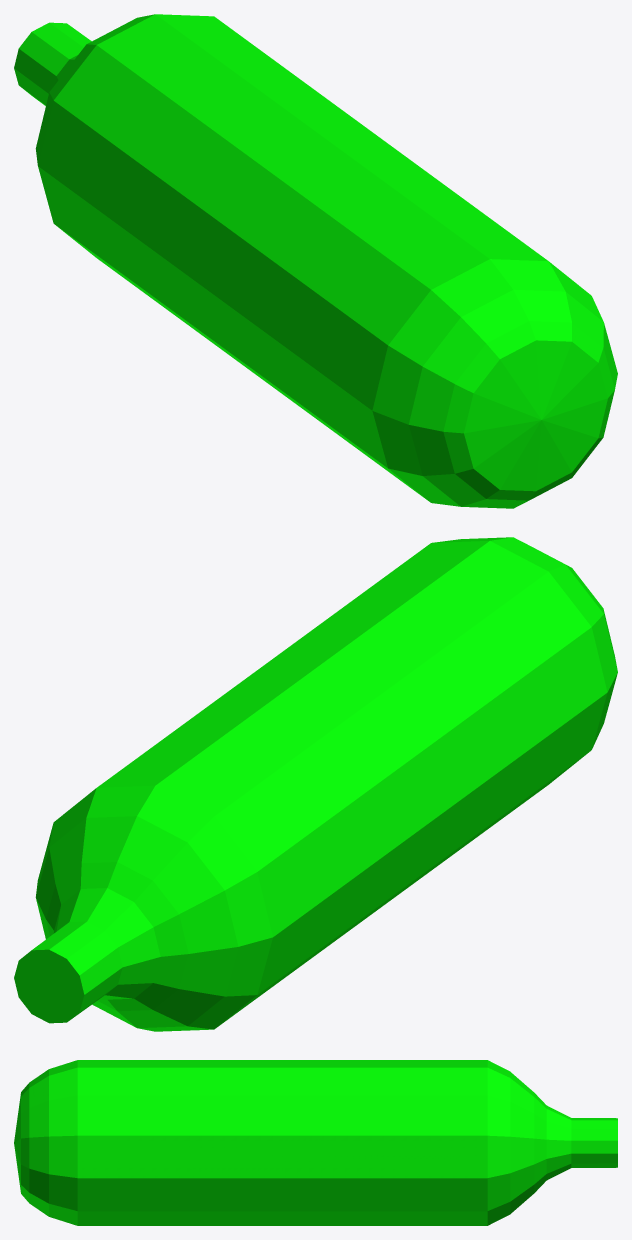
File: Proto_Water_Gun_Bottle_01.fbx
3 views of the same model, one above another, from view 1: azimuth 30°, elevation 25°; view 2: azimuth 150°, elevation 25°; view 3: azimuth 270°, elevation 25° (orthographic). The views are drawn at different scales.
Parts seen in each view (by area): view 1: Proto_Water_Gun_Bottle_01; view 2: Proto_Water_Gun_Bottle_01; view 3: Proto_Water_Gun_Bottle_01.
Boxes of the visible parts, x1,y1,x2,y2 form: Proto_Water_Gun_Bottle_01: (14,14,617,508); Proto_Water_Gun_Bottle_01: (14,537,617,1031); Proto_Water_Gun_Bottle_01: (14,1060,617,1225).
Bounding box in the file's own units: 0.0842 × 0.0842 × 0.3056.
